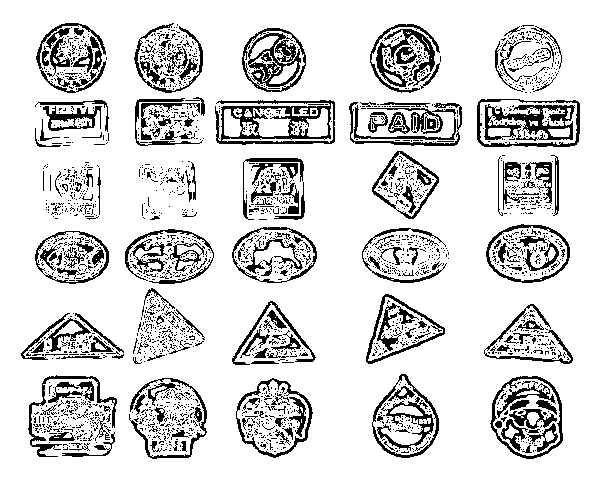Decorated chop: (27, 373, 116, 459), (491, 373, 563, 466), (130, 379, 209, 461), (239, 379, 310, 459), (375, 374, 435, 460)
Oval chop: (231, 227, 320, 285), (487, 224, 569, 285), (127, 231, 214, 285), (363, 230, 447, 282), (36, 234, 108, 285)
Rectangular chop: (216, 102, 336, 145), (477, 99, 578, 147), (350, 103, 462, 146), (36, 103, 110, 145), (137, 100, 204, 143)
Round chop: (370, 25, 442, 92), (38, 24, 107, 89), (495, 24, 562, 90), (135, 26, 205, 89), (242, 29, 307, 90)
Square chop: (370, 152, 440, 219), (243, 158, 304, 220), (497, 157, 560, 216), (43, 162, 101, 221), (139, 161, 197, 219)
Triangle chop: (485, 304, 573, 367), (366, 296, 444, 367), (231, 302, 317, 366), (137, 290, 204, 363), (20, 313, 123, 359)
